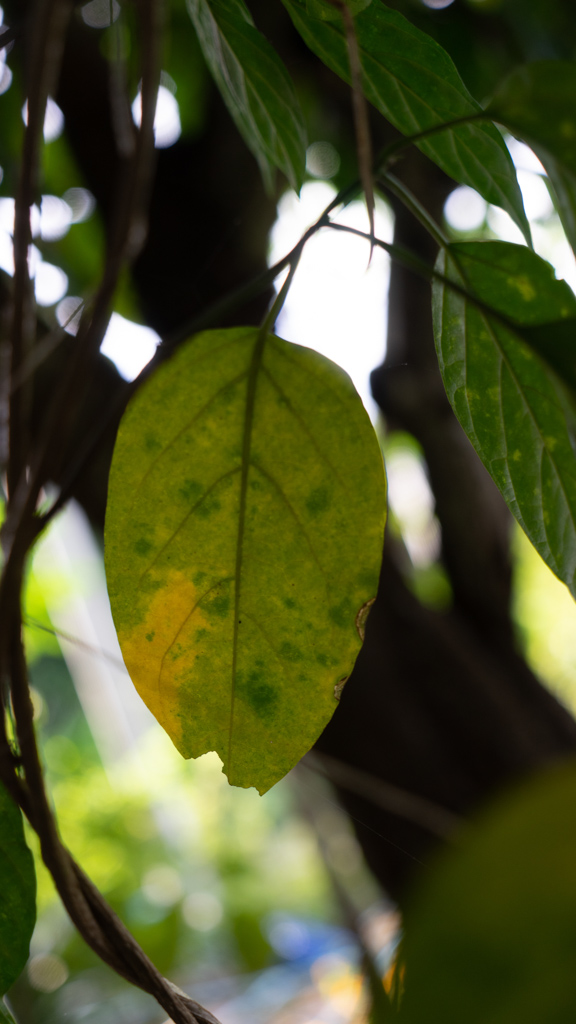Pepper yellow leaf: (103, 329, 380, 787)
